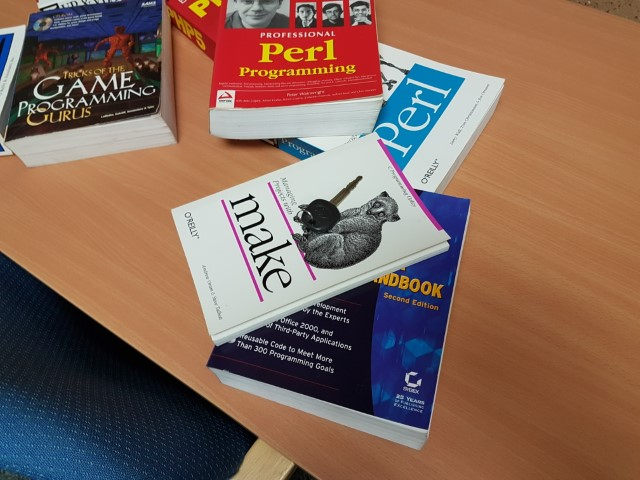key: (301, 173, 363, 232)
